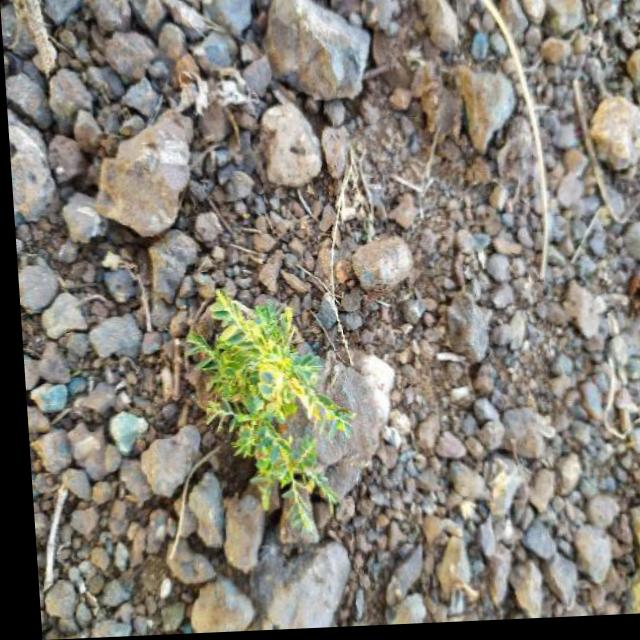weed: (175, 284, 348, 510)
